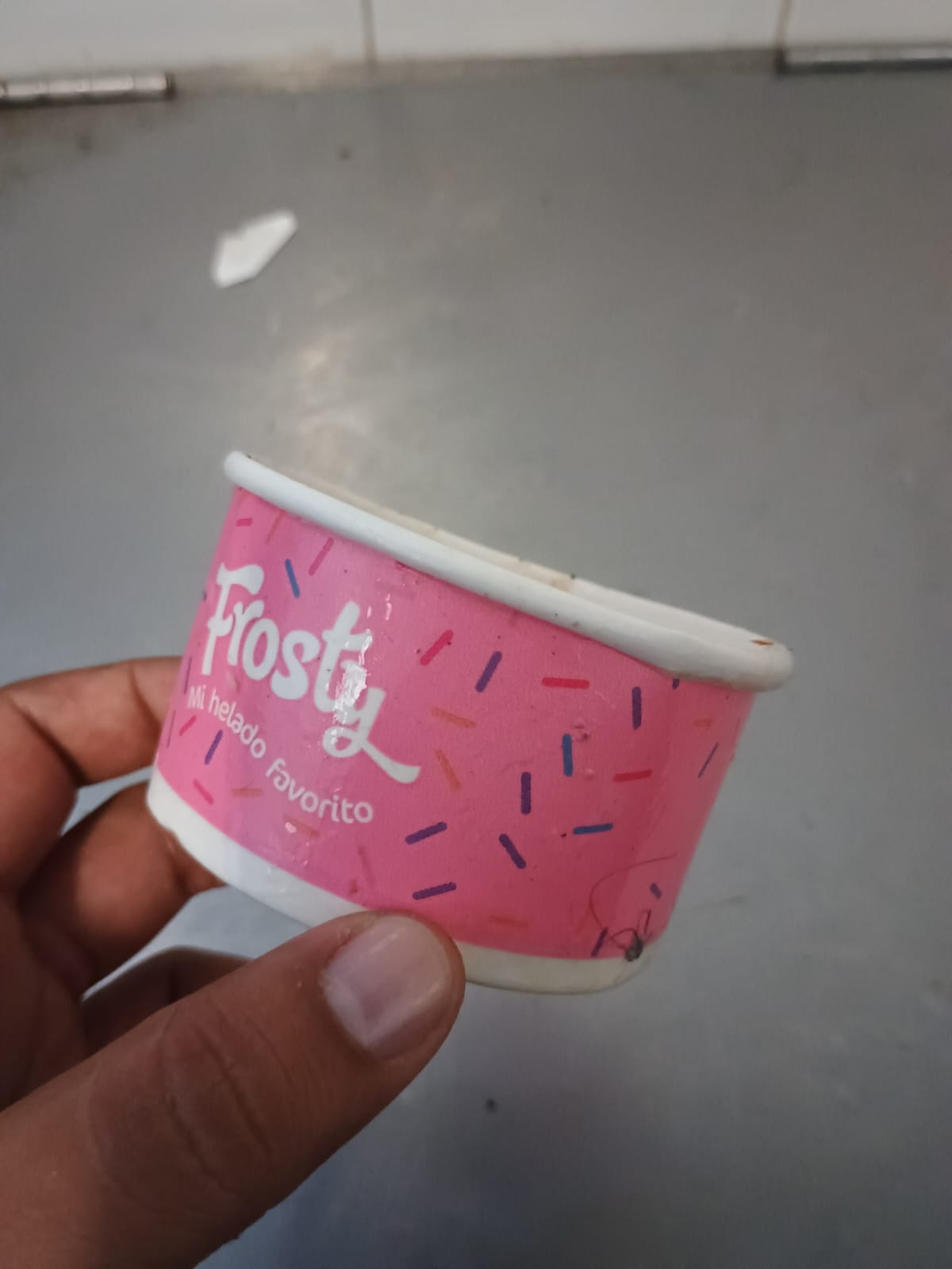Carton: (145, 446, 800, 998)
